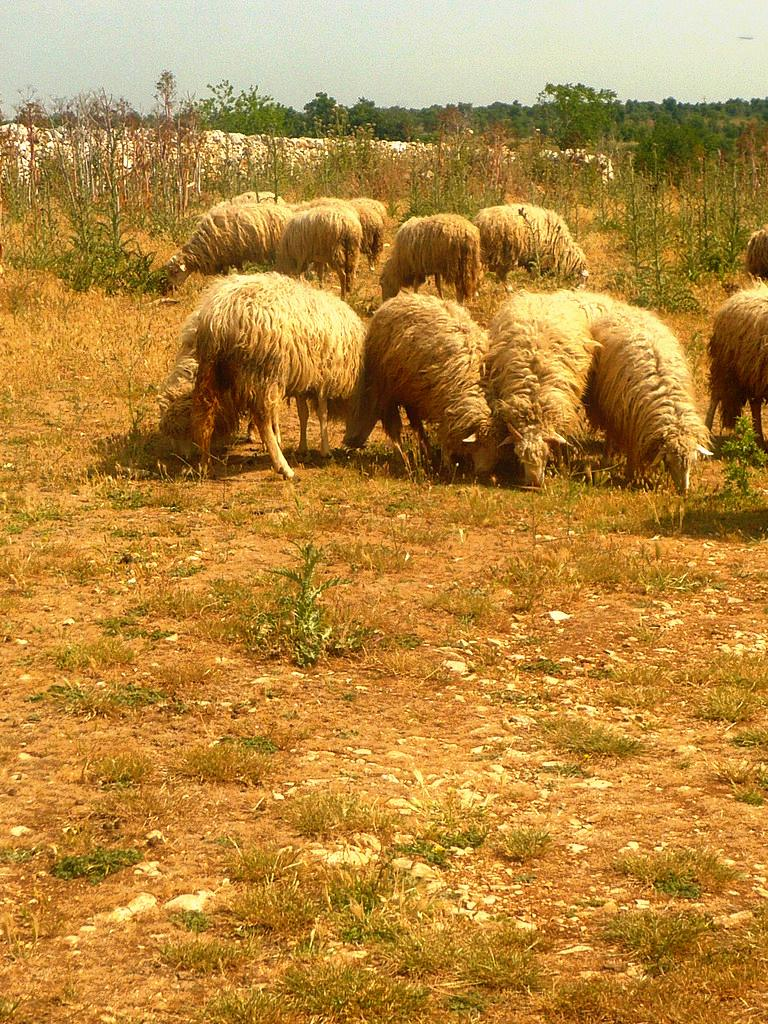Sheep: (171, 272, 370, 485), (574, 295, 712, 499), (368, 291, 494, 484), (488, 290, 599, 490), (164, 204, 294, 296), (704, 286, 768, 449), (476, 205, 594, 289), (264, 207, 369, 298), (376, 216, 476, 302), (343, 193, 388, 269), (736, 224, 768, 285)
